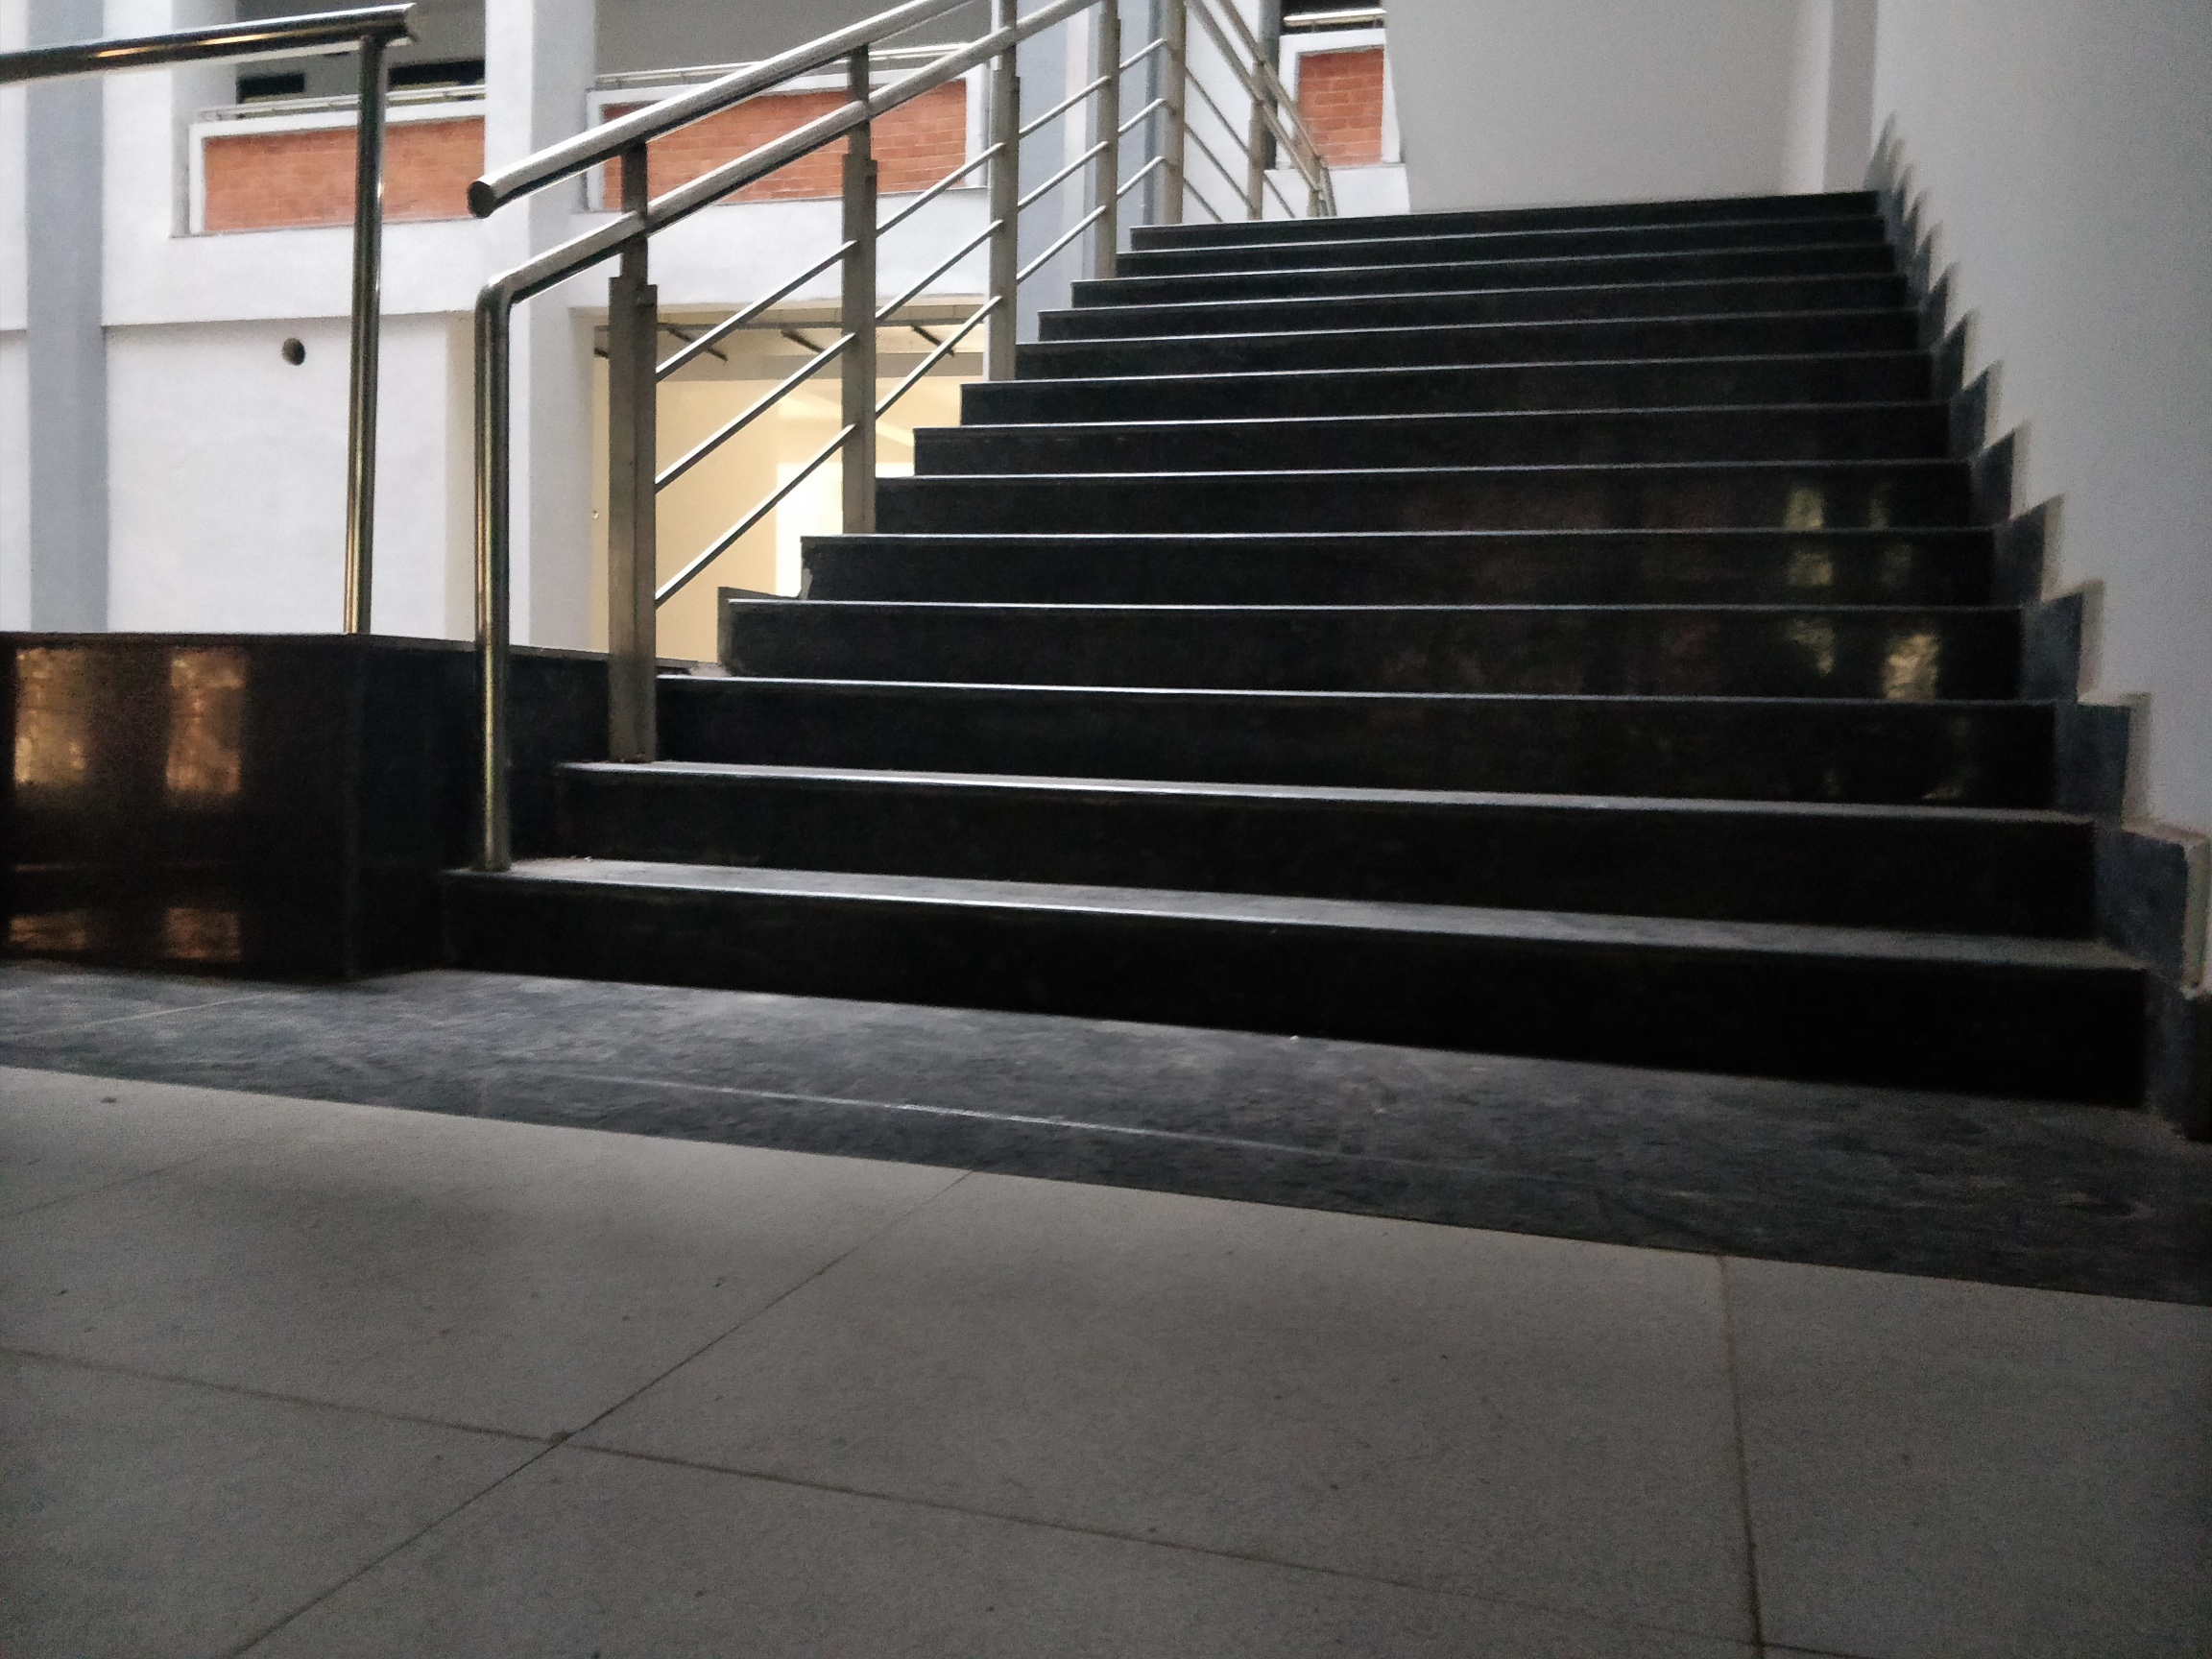stairs_up: (808, 166, 2101, 1086)
